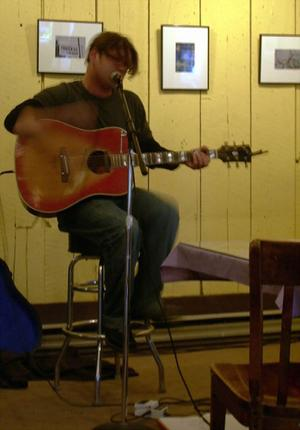person: (4, 31, 211, 353)
